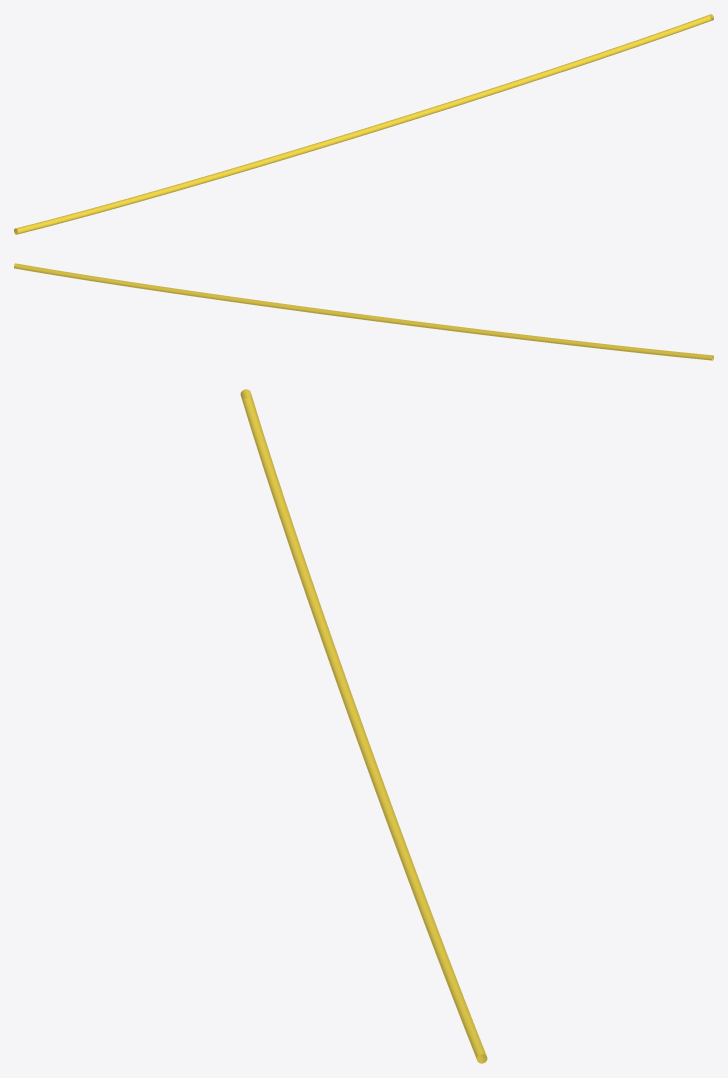
Rendered from Event_17758602_track_39.fbx.
3 views of the same model, one above another, from view 1: azimuth 30°, elevation 25°; view 2: azimuth 150°, elevation 25°; view 3: azimuth 270°, elevation 25° (orthographic). The views are drawn at different scales.
Parts seen in each view (by area): view 1: Model; view 2: Model; view 3: Model.
Part boxes in pixels (x1,y1,x2,y2): Model: [14, 14, 713, 234]; Model: [14, 263, 713, 360]; Model: [240, 389, 487, 1063].
Bounding box in the file's own units: 5.54 × 0.2132 × 0.9254.
